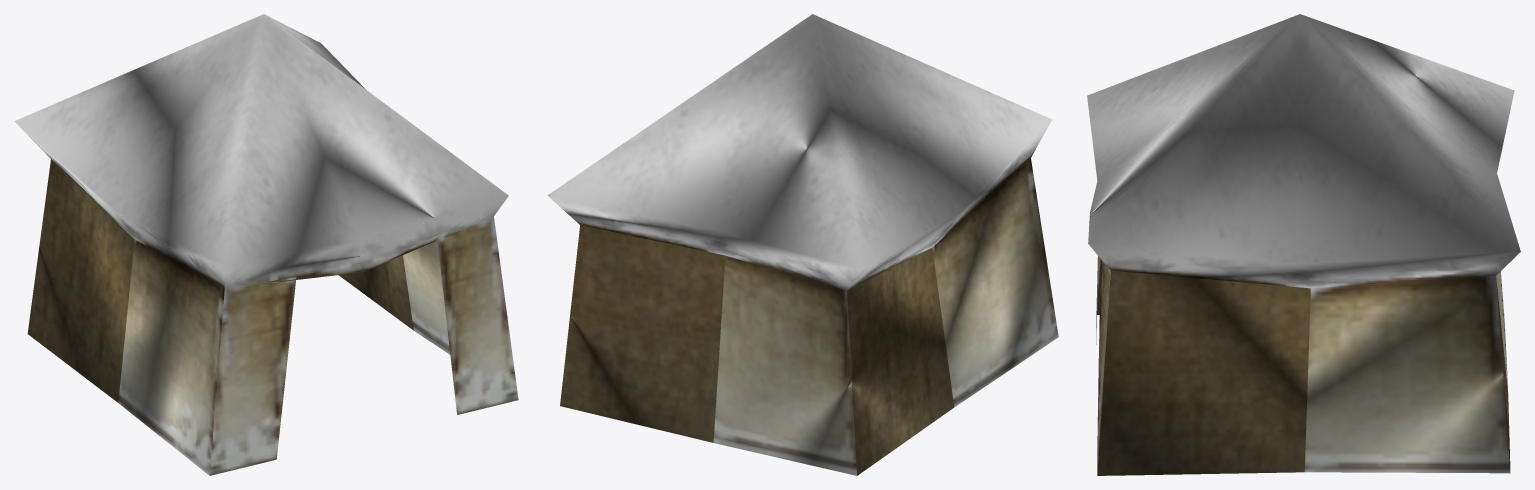
The model's file is nsm-general_obj_04.fbx.
3 views of the same model, side by side, from view 1: azimuth 30°, elevation 25°; view 2: azimuth 150°, elevation 25°; view 3: azimuth 270°, elevation 25° (orthographic). The views are drawn at different scales.
Parts seen in each view (by area): view 1: Mesh01; view 2: Mesh01; view 3: Mesh01.
Part boxes in pixels (left/top/right/bottom): Mesh01: left=14, top=14, right=518, bottom=475; Mesh01: left=547, top=14, right=1058, bottom=475; Mesh01: left=1087, top=14, right=1520, bottom=475.
Bounding box in the file's own units: 4.71 × 5.17 × 5.35.
